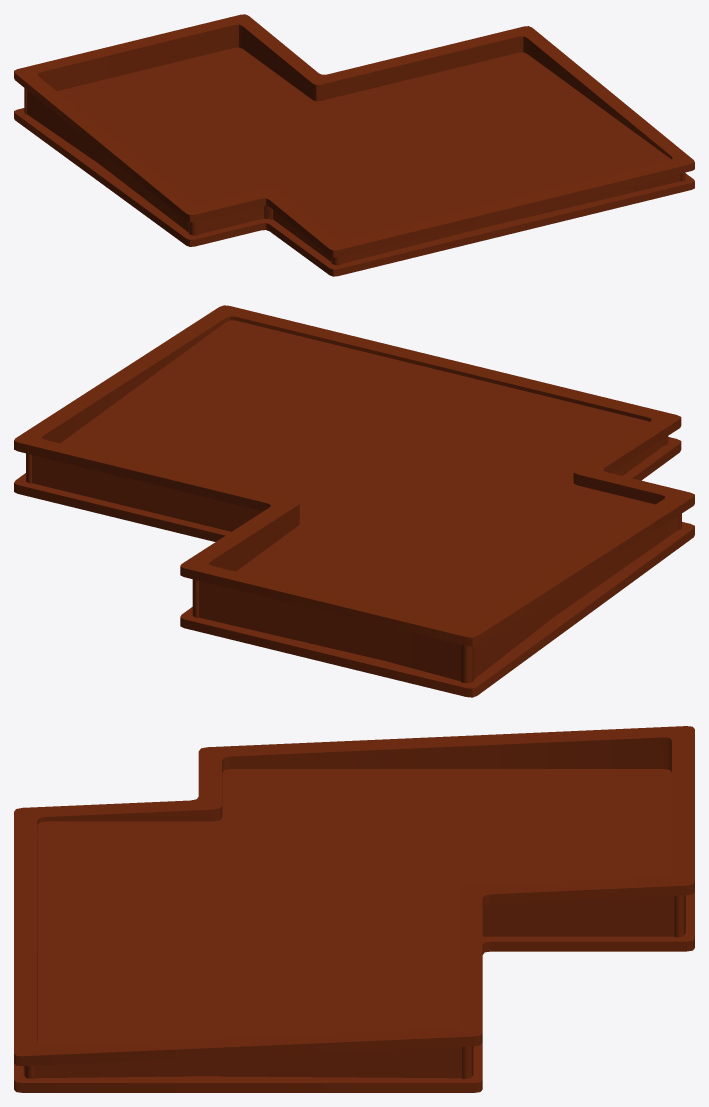
File: Roof.FBX
3 renders of one model, top to bottom at view 1: azimuth 30°, elevation 25°; view 2: azimuth 150°, elevation 25°; view 3: azimuth 270°, elevation 25°, orthographic. The views are drawn at different scales.
Parts seen in each view (by area): view 1: Glass; view 2: Glass; view 3: Glass.
Boxes of the visible parts, <box> form: Glass: <box>14,14,694,276</box>; Glass: <box>14,305,694,697</box>; Glass: <box>14,726,694,1092</box>.
Size of the model in its own units: 886 by 91.06 by 848.
